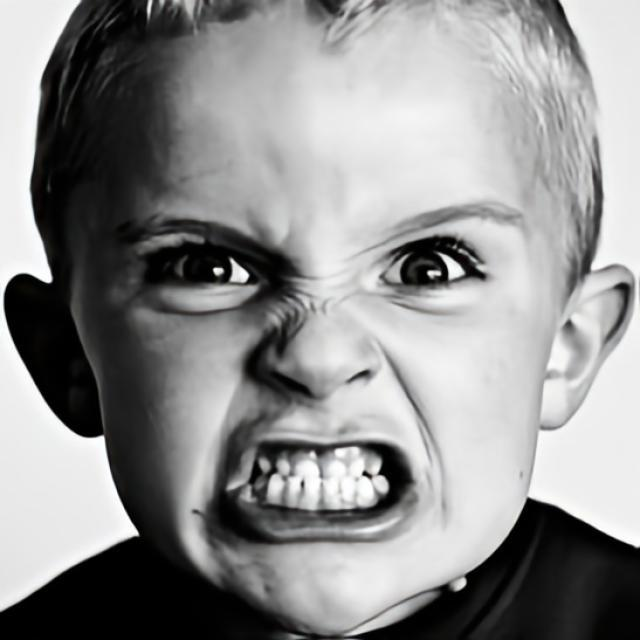anger: (98, 64, 546, 625)
